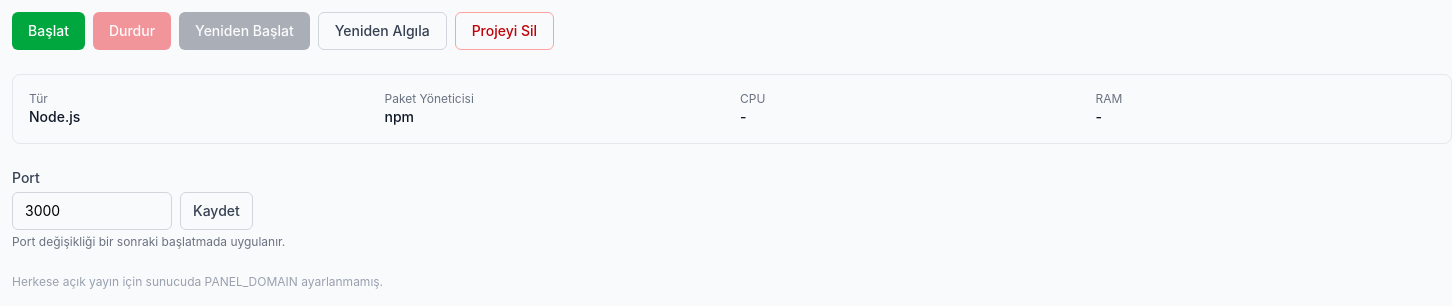
Test: OverviewTab › deletes the project and navigates to the list after confirming
Click the button "Projeyi Sil".
click(504, 31)  # box top-left (455, 12), bottom-right (554, 50)
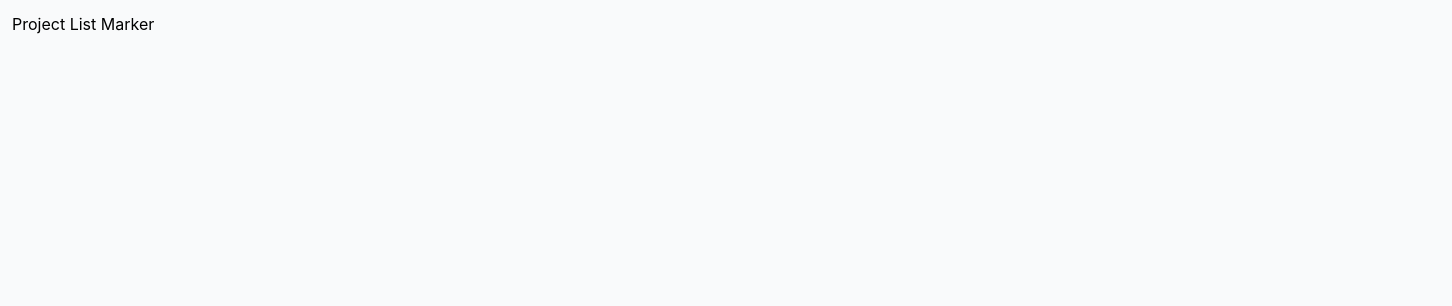
Now the text "Project List Marker" is shown, box top-left (12, 14), bottom-right (154, 34)
